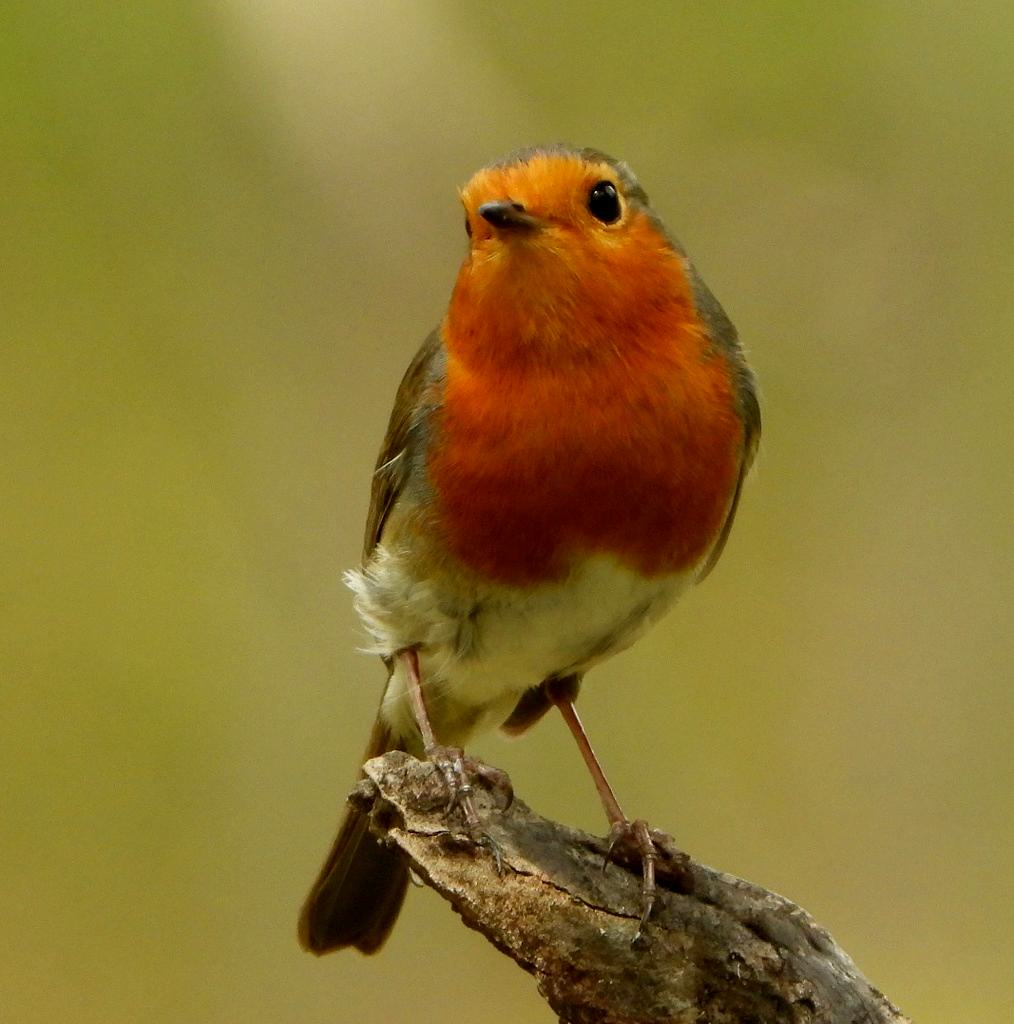ErithacusRubecula: (296, 138, 763, 958)
